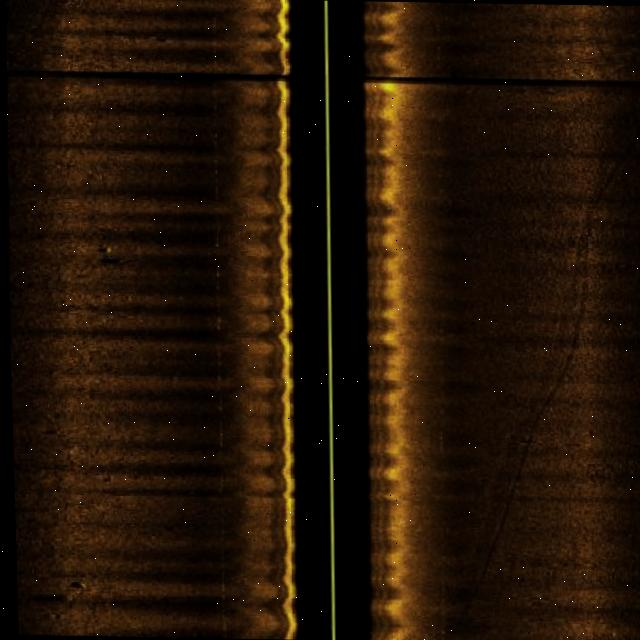mine: (62, 580, 85, 591)
